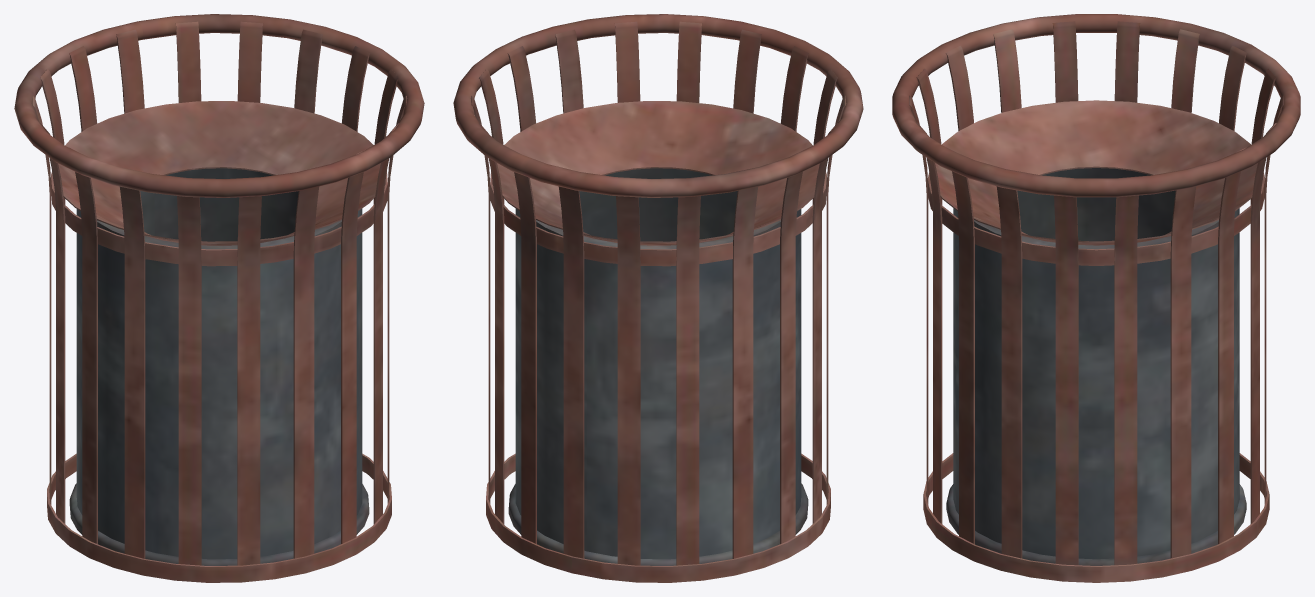
The model's file is SM_Dustbin_05.FBX.
3 views of the same model, side by side, from view 1: azimuth 30°, elevation 25°; view 2: azimuth 150°, elevation 25°; view 3: azimuth 270°, elevation 25° (orthographic).
Visible parts, largest first — view 1: SM_Dustbin_05_LOD0; view 2: SM_Dustbin_05_LOD0; view 3: SM_Dustbin_05_LOD0.
Part boxes in pixels (box(x1,y1,x2,y2)): SM_Dustbin_05_LOD0: box(14, 14, 424, 582); SM_Dustbin_05_LOD0: box(453, 14, 863, 582); SM_Dustbin_05_LOD0: box(892, 14, 1300, 582).
Size of what is drawn, in the model's own units: 61.86 by 61.86 by 68.94.
